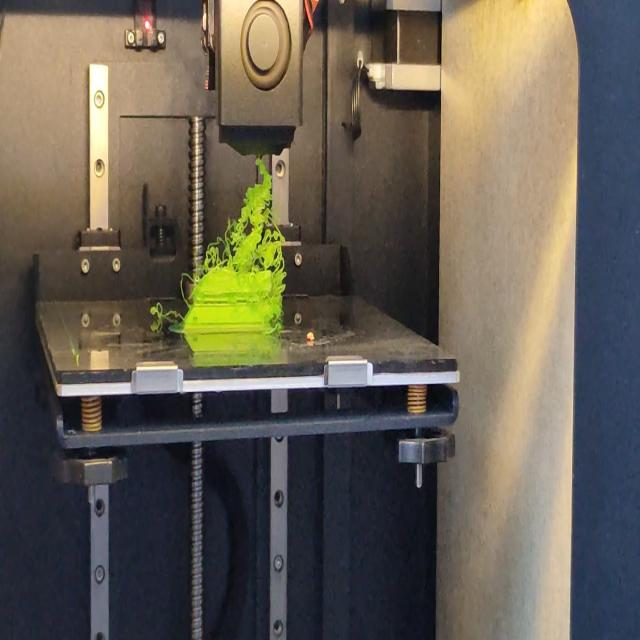spaghetti: (204, 162, 290, 269), (270, 269, 288, 335), (151, 302, 183, 326), (179, 268, 193, 302)
